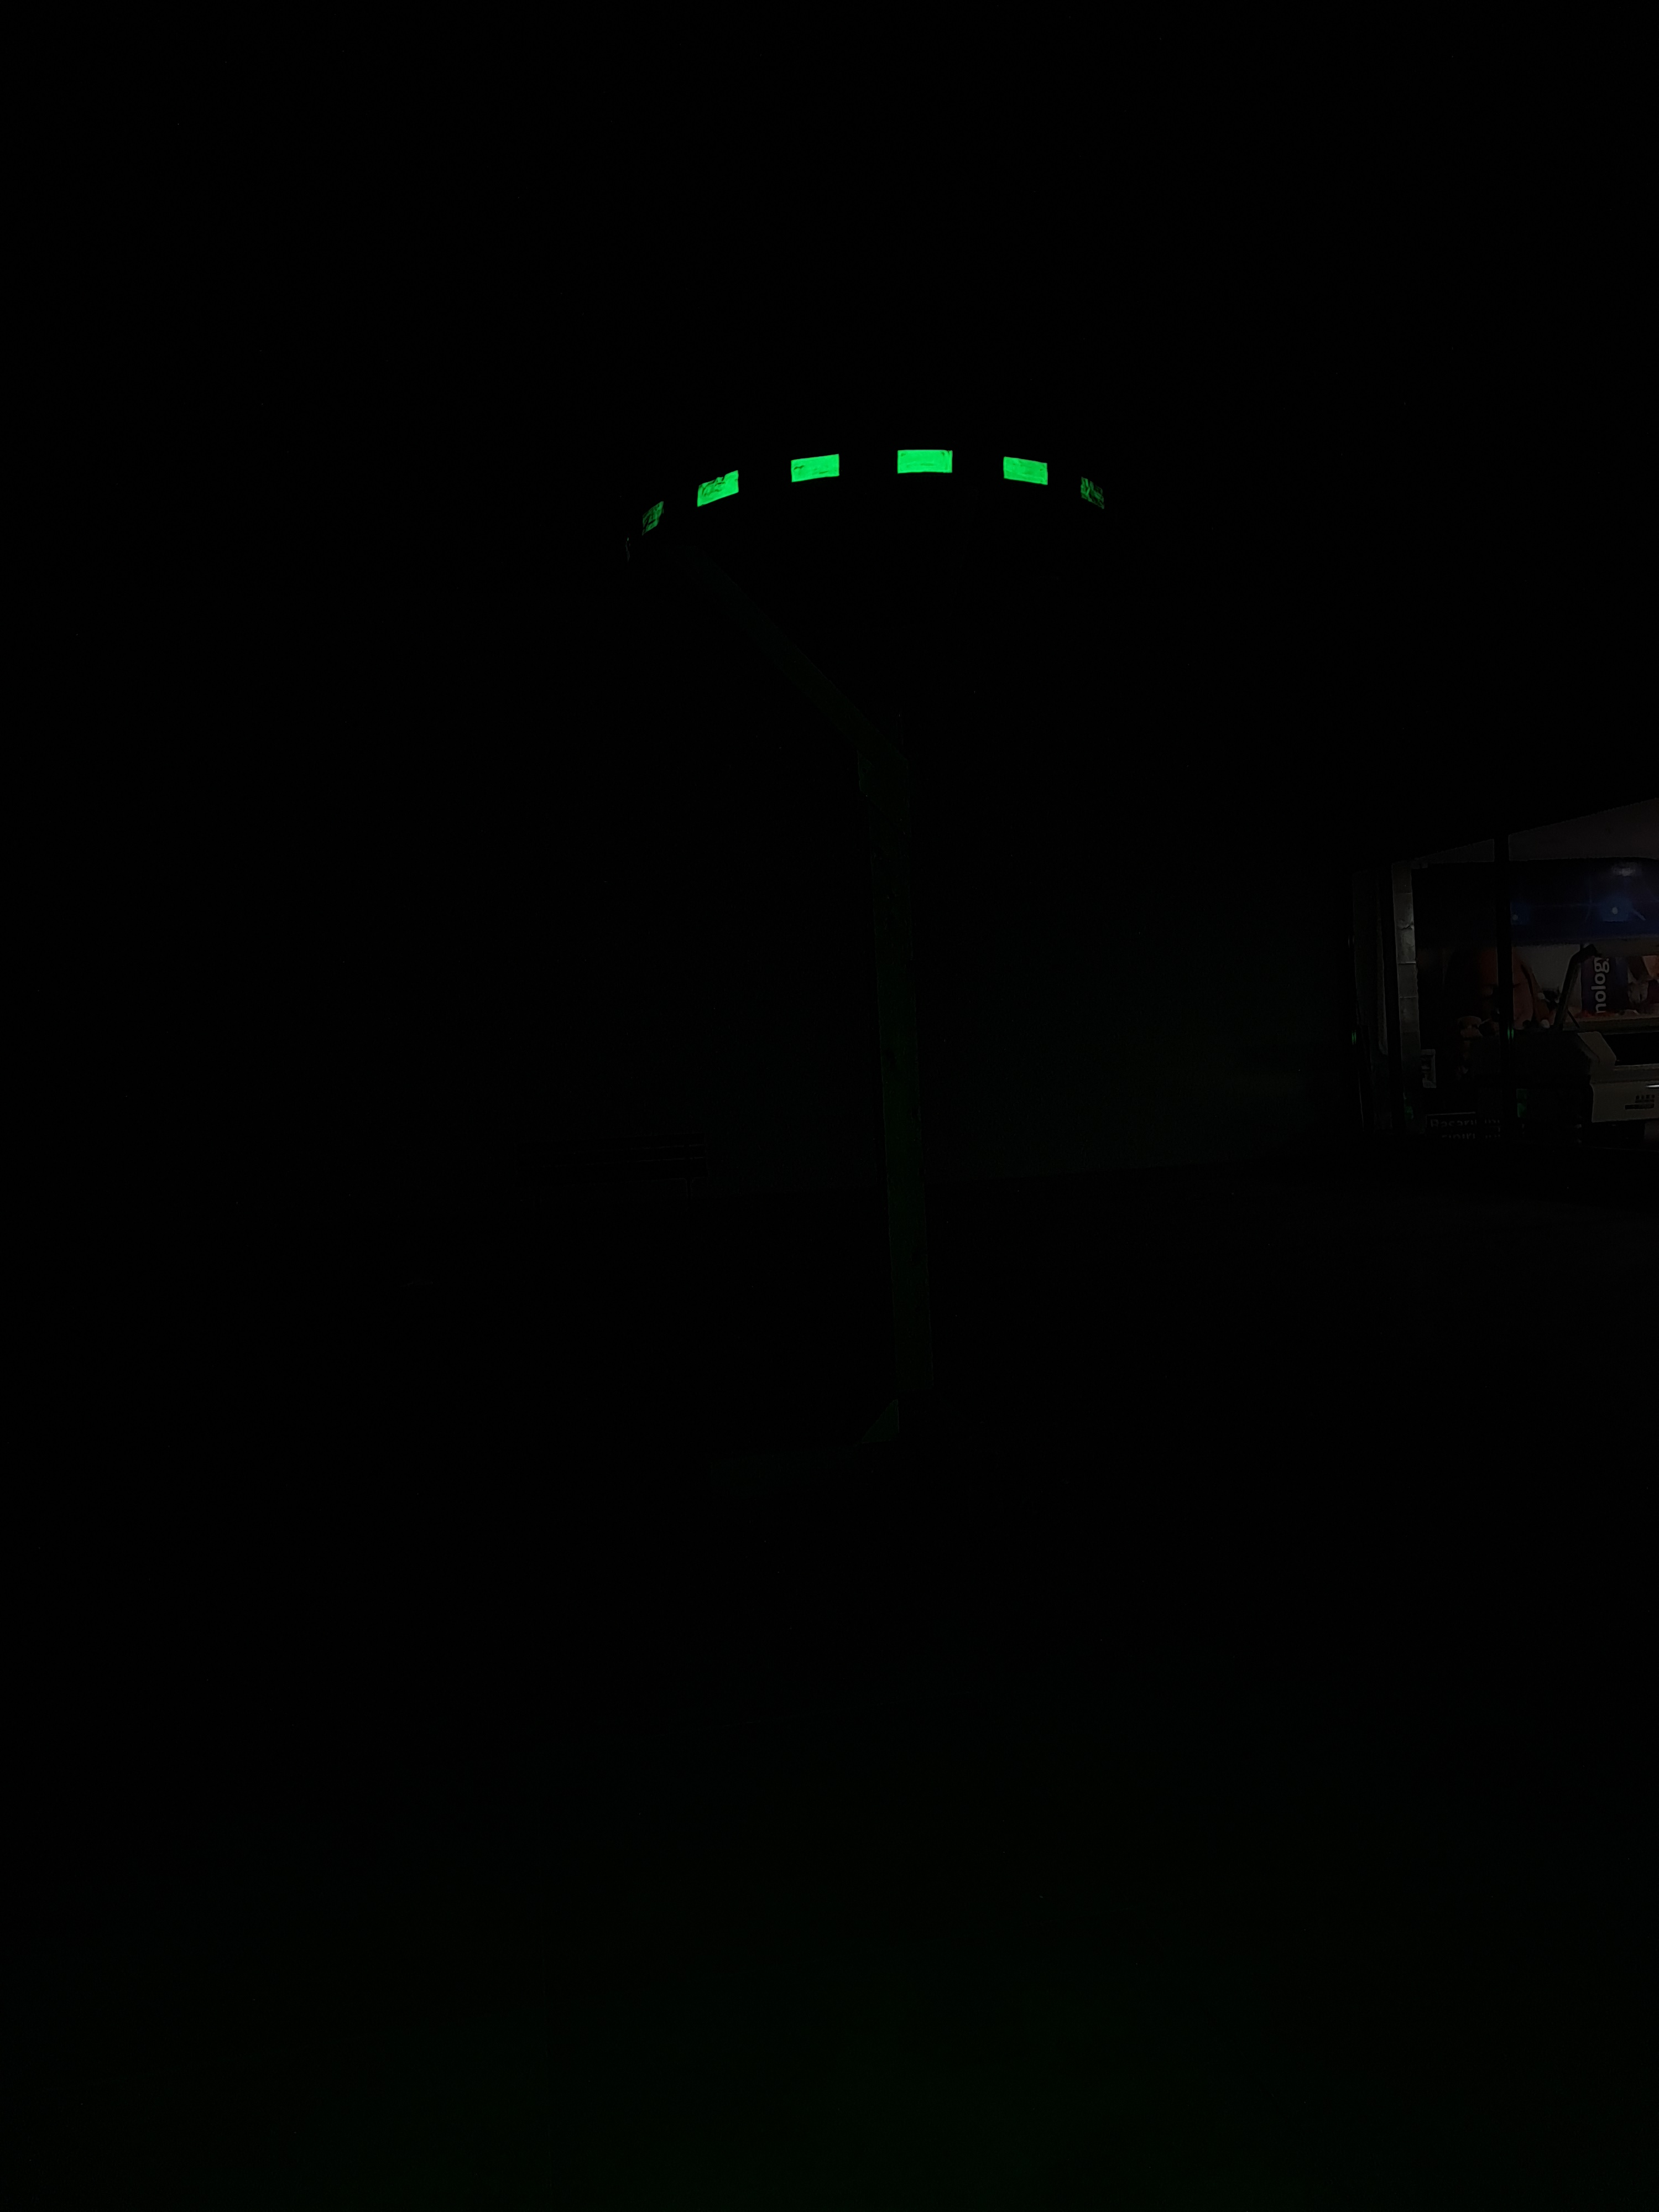hoop: (587, 442, 1122, 554)
